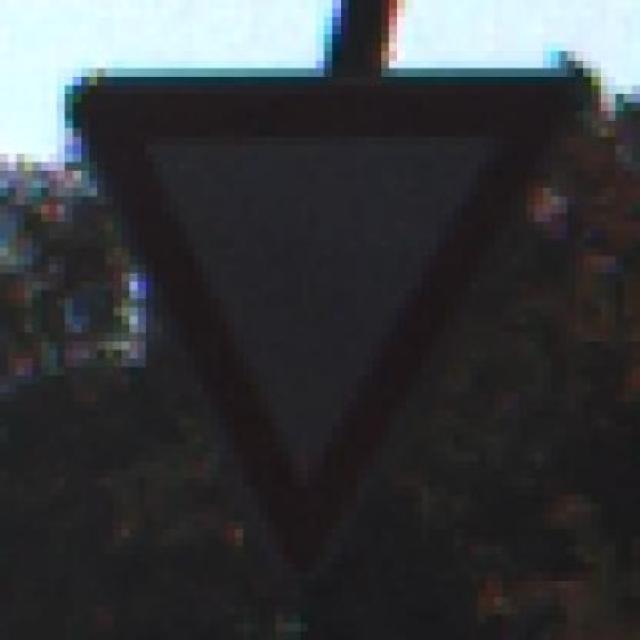Give Way: (65, 51, 624, 555)
